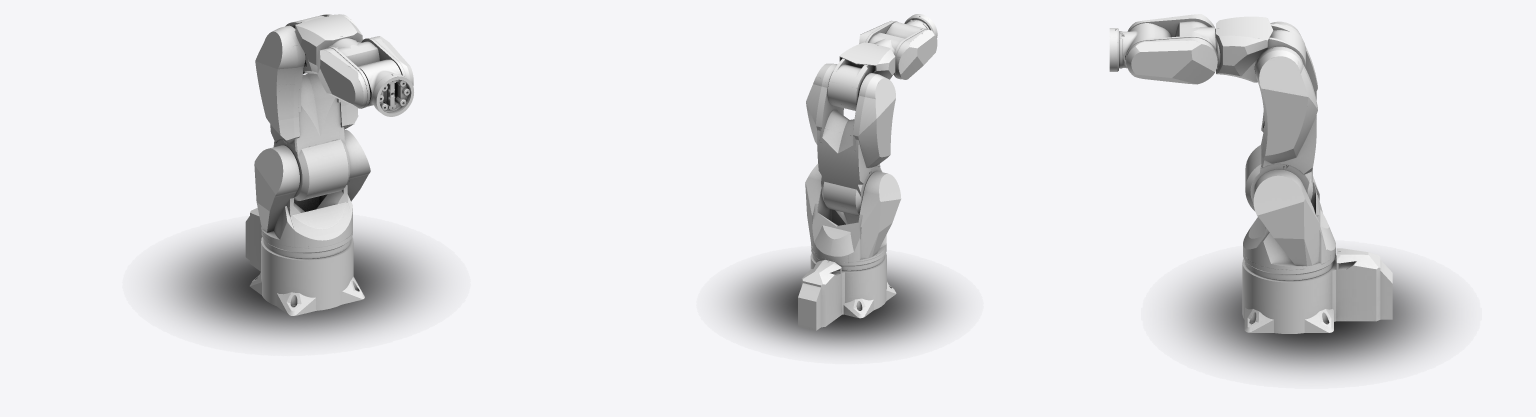
File: RobotArm.glb
The picture shows the model from 3 angles, left to right: view 1: azimuth 30°, elevation 25°; view 2: azimuth 150°, elevation 25°; view 3: azimuth 270°, elevation 25°; orthographic projection. The views are drawn at different scales.
Visible parts, largest first — view 1: pPlane1, J2, J1, Base, J4, J3, J5, J6; view 2: pPlane1, J2, J1, Base, J3, J4, J5; view 3: pPlane1, Base, J1, J2, J4, J3, J5, J6.
Boxes of the visible parts, box(x1,y1,x2,y2) form: pPlane1: box(161, 232, 431, 339); J2: box(255, 14, 362, 200); J1: box(254, 129, 370, 258); Base: box(245, 208, 364, 315); J4: box(317, 36, 413, 108); J3: box(285, 14, 362, 74); J5: box(358, 59, 406, 110); J6: box(372, 73, 413, 116); pPlane1: box(728, 260, 951, 350); J2: box(806, 63, 895, 215); J1: box(805, 164, 901, 270); Base: box(798, 253, 896, 330); J3: box(827, 42, 895, 110); J4: box(859, 20, 937, 79); J5: box(886, 19, 929, 38); pPlane1: box(1178, 264, 1444, 372); Base: box(1242, 248, 1392, 333); J1: box(1243, 169, 1335, 280); J2: box(1245, 21, 1317, 210); J4: box(1125, 14, 1218, 84); J3: box(1215, 16, 1305, 82); J5: box(1119, 23, 1171, 68); J6: box(1109, 28, 1118, 71).
Bounding box in the file's own units: 0.8189 × 0.6183 × 0.8189.
3 materials, 3 textured.
